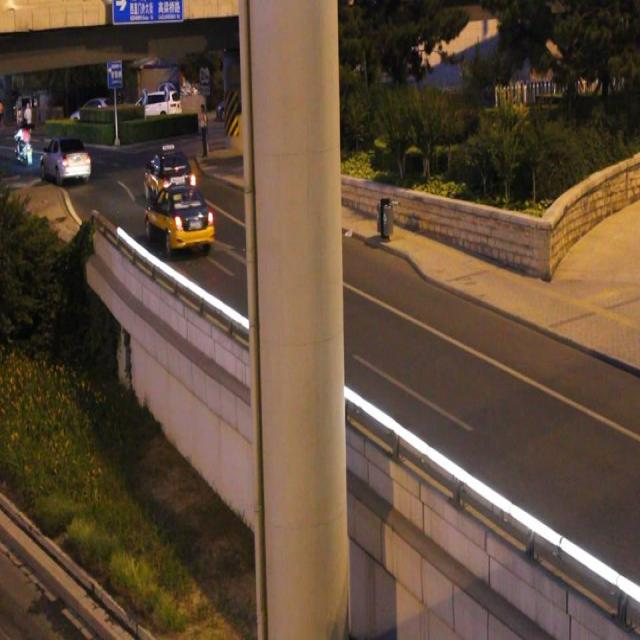car: (147, 185, 214, 246), (146, 152, 194, 202), (42, 138, 90, 180)
